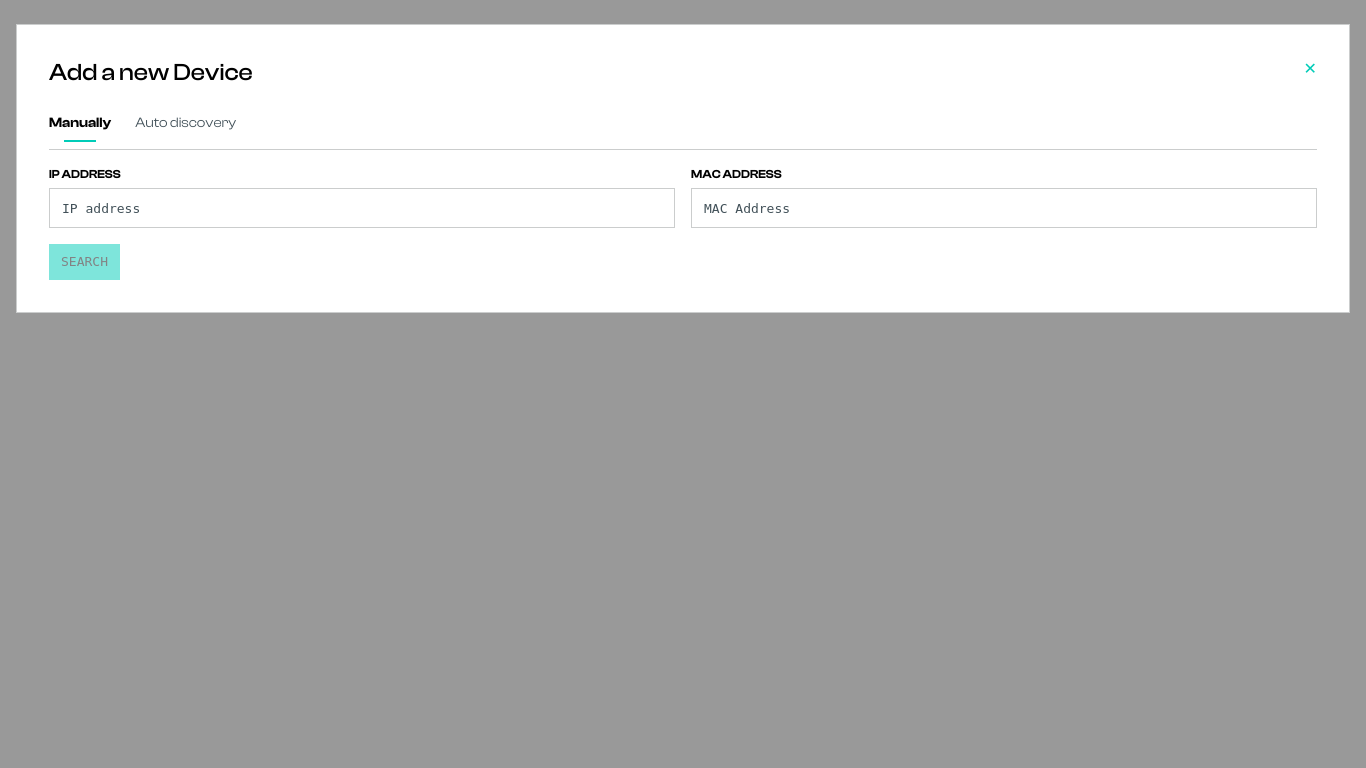
Scenario: RegisterDevicesModal › logs when auto-discovery request throws
Expected: the dialog is shown, [16,24,1350,313]
Click the button "Auto discovery" at point(186, 127), box [135,113,236,141]
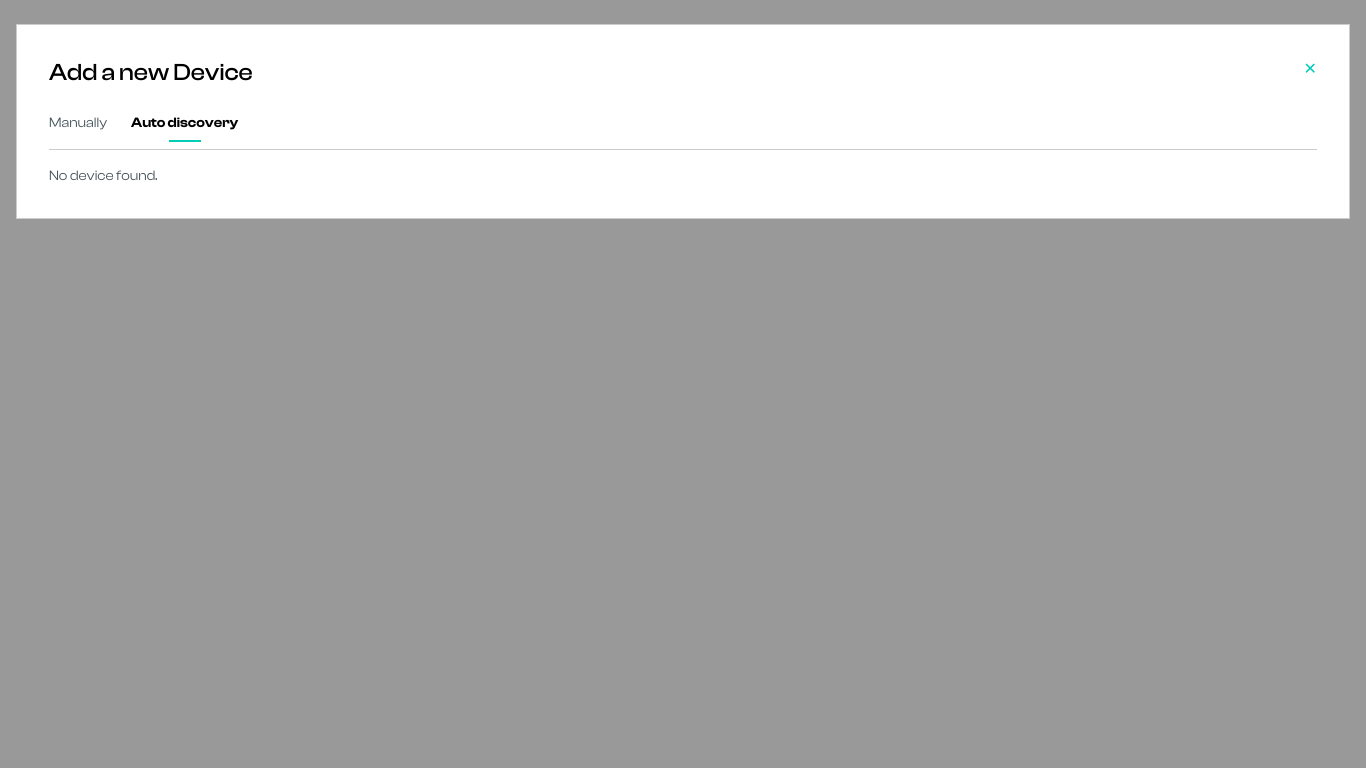
Now the text "No device found." is shown, box [49,168,157,184]
